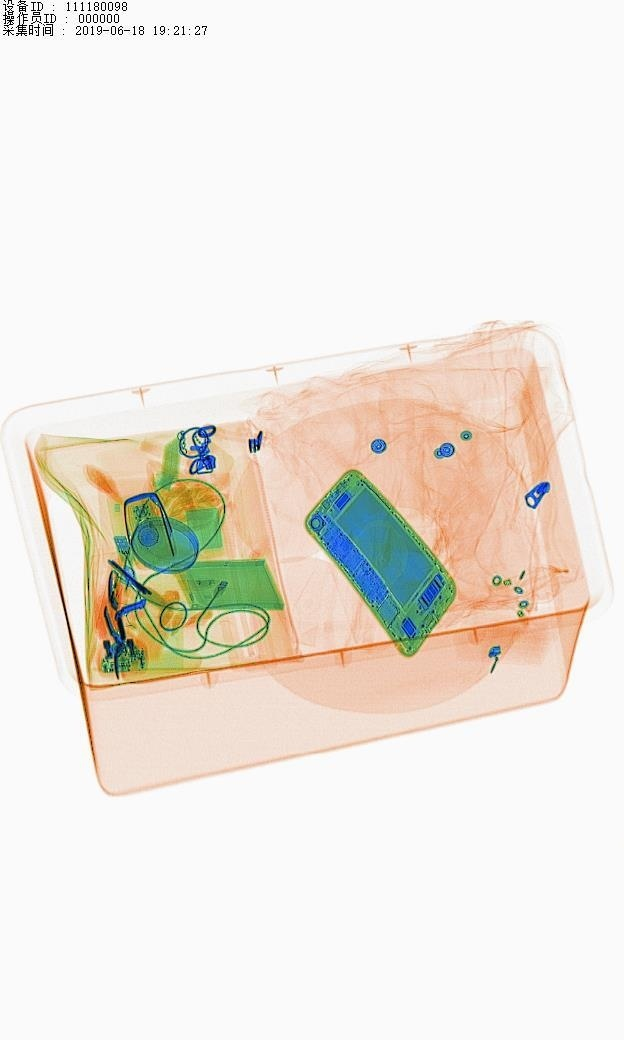NonmetallicFire: (95, 561, 151, 643)
